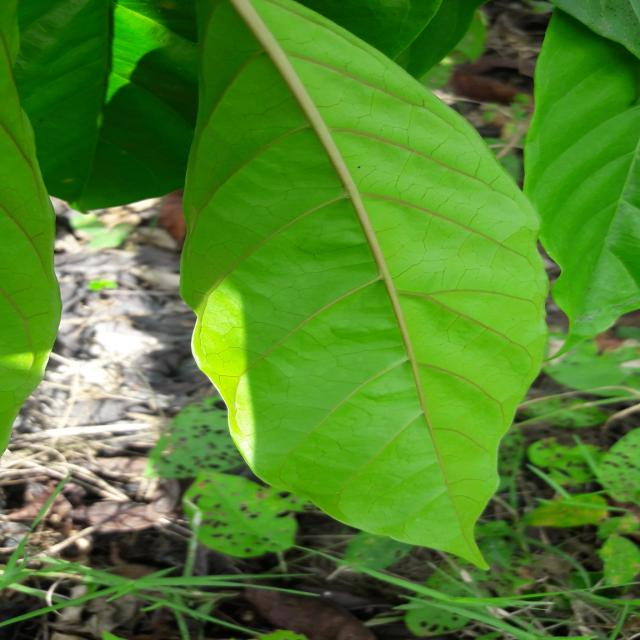Sanas: (179, 0, 561, 570)
